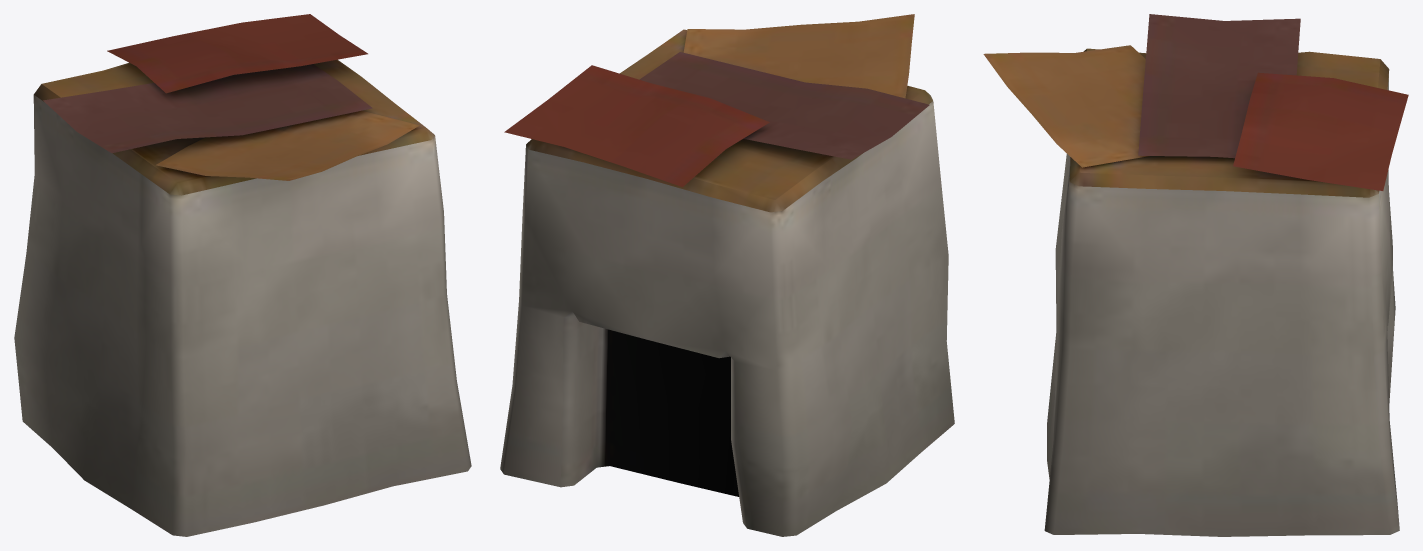
Rendered from MSH_Building_Hole_003.glb.
3 views of the same model, side by side, from view 1: azimuth 30°, elevation 25°; view 2: azimuth 150°, elevation 25°; view 3: azimuth 270°, elevation 25° (orthographic). The views are drawn at different scales.
Parts seen in each view (by area): view 1: Base.004; view 2: Base.004; view 3: Base.004.
Part boxes in pixels (x1=…): Base.004: x1=14, y1=14, x2=471, y2=536; Base.004: x1=500, y1=14, x2=954, y2=536; Base.004: x1=983, y1=14, x2=1408, y2=536.
Size of the model in its own units: 5.59 by 6.12 by 6.33.
1 material, 1 textured.
